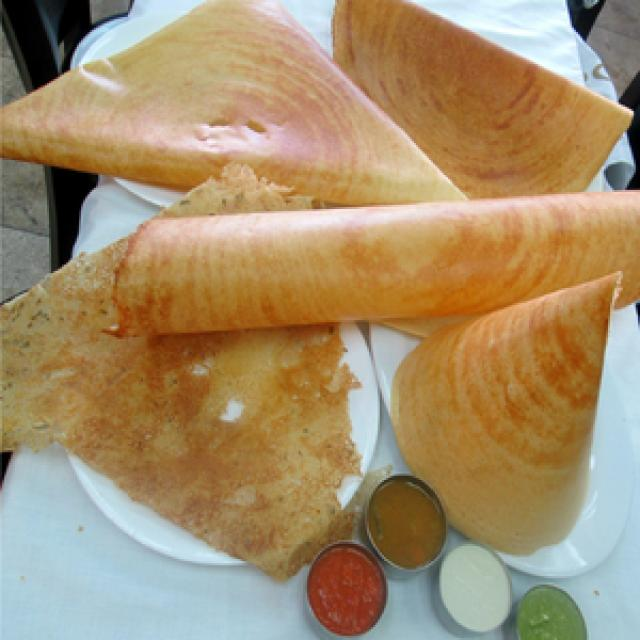dosa: (0, 0, 474, 211), (96, 179, 640, 346), (384, 262, 633, 569), (322, 0, 640, 203)
